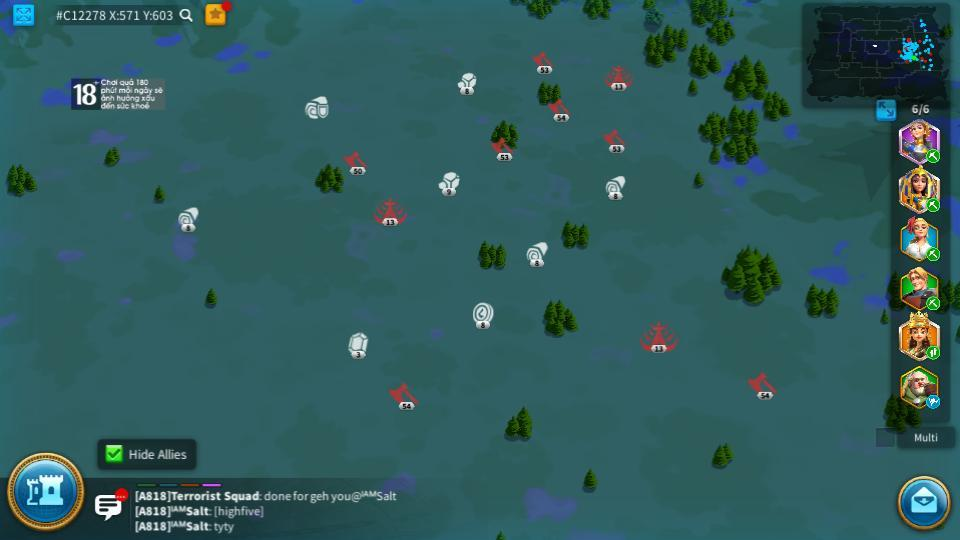gem-z-out: (348, 332, 369, 359)
march_farming: (924, 197, 939, 212)
march_idle: (925, 396, 942, 408)
march_marching: (925, 150, 942, 162), (925, 347, 941, 359), (926, 297, 942, 308)
